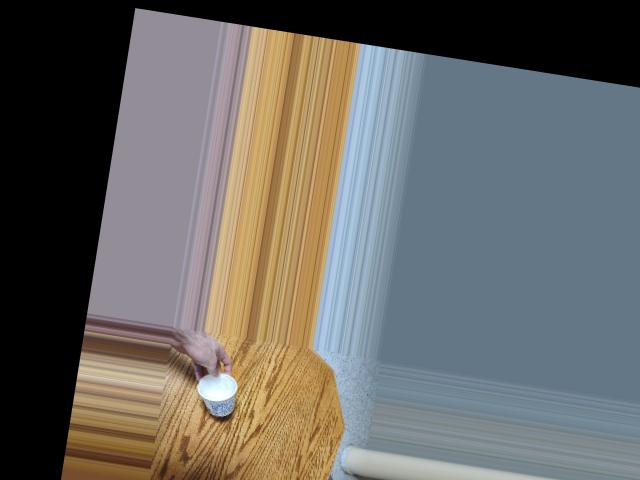cotage: (201, 370, 238, 416)
